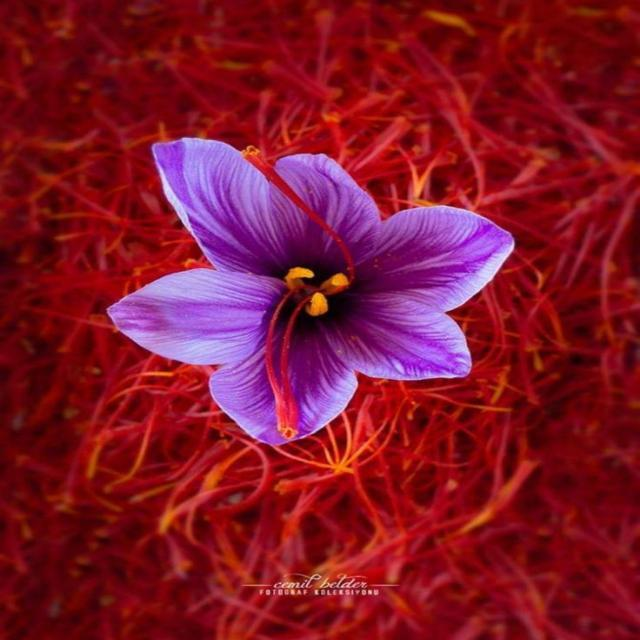Flower: (151, 143, 507, 424)
stigma: (236, 147, 356, 281), (278, 294, 318, 436), (262, 284, 299, 436)
